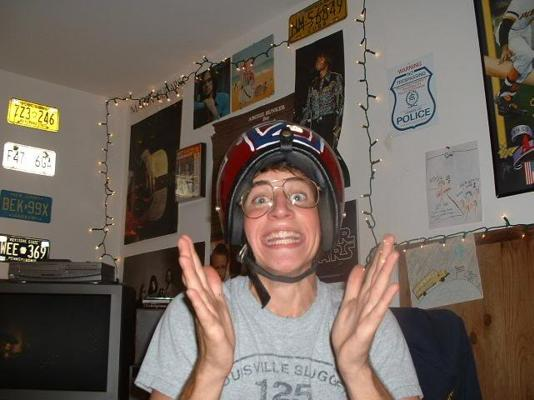person: (132, 123, 433, 400)
